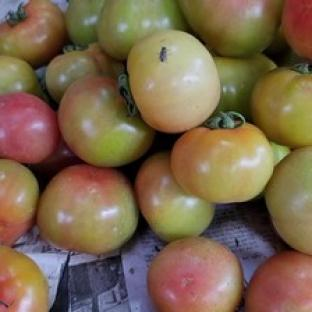Tomato: (127, 30, 221, 133), (172, 113, 274, 203), (37, 165, 139, 254), (59, 76, 155, 167), (147, 237, 243, 311), (136, 151, 214, 240), (251, 63, 311, 147), (265, 147, 311, 254), (45, 44, 123, 103), (214, 53, 277, 121), (0, 92, 59, 164), (244, 251, 311, 311), (0, 159, 38, 245), (0, 246, 48, 311), (28, 137, 83, 188), (0, 55, 44, 97), (269, 141, 291, 164)
